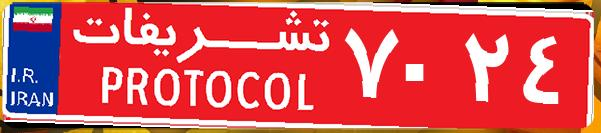0: (400, 20, 460, 115)
2: (460, 20, 520, 115)
4: (520, 20, 580, 115)
7: (340, 20, 400, 115)
تشریفات: (60, 8, 340, 125)
